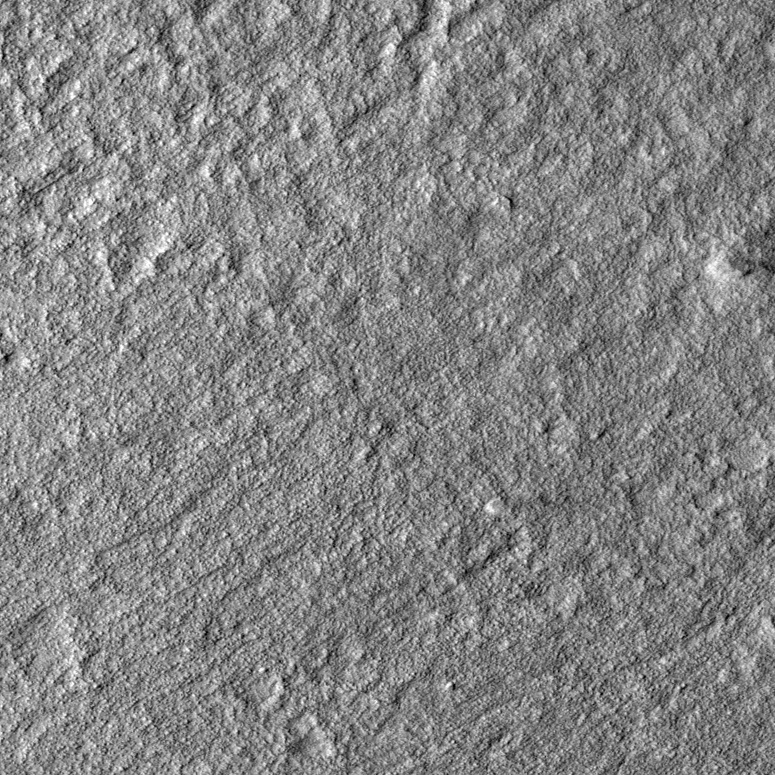dust_devil: (704, 224, 775, 285)
